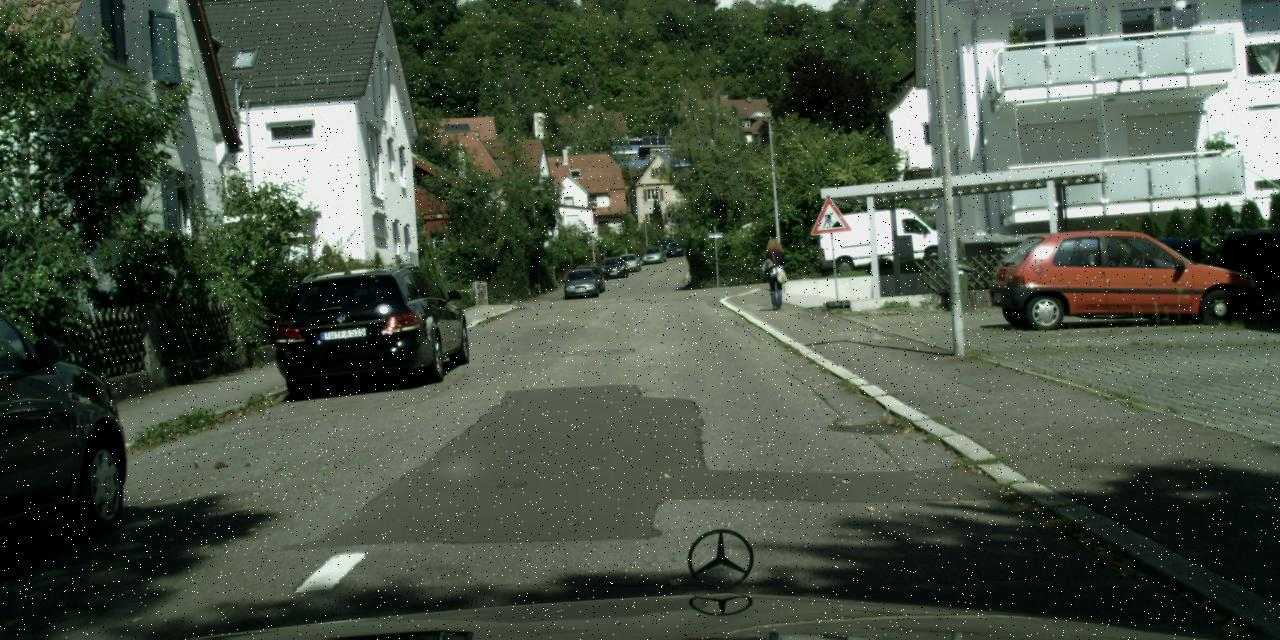ped: (759, 237, 789, 309)
